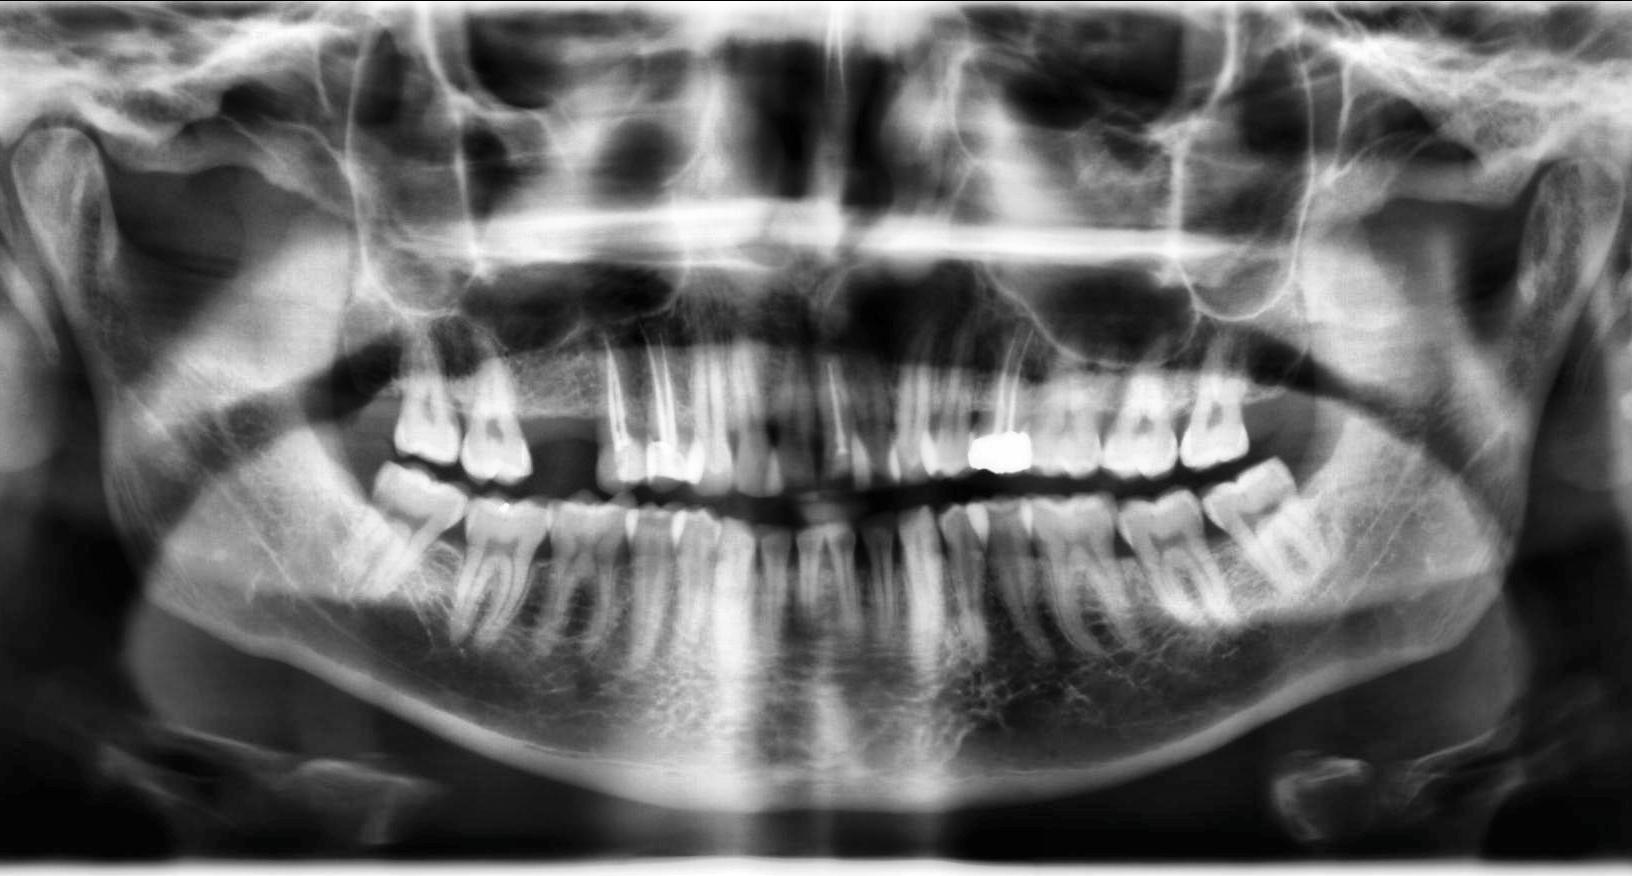keratokist: (820, 257, 981, 371)
